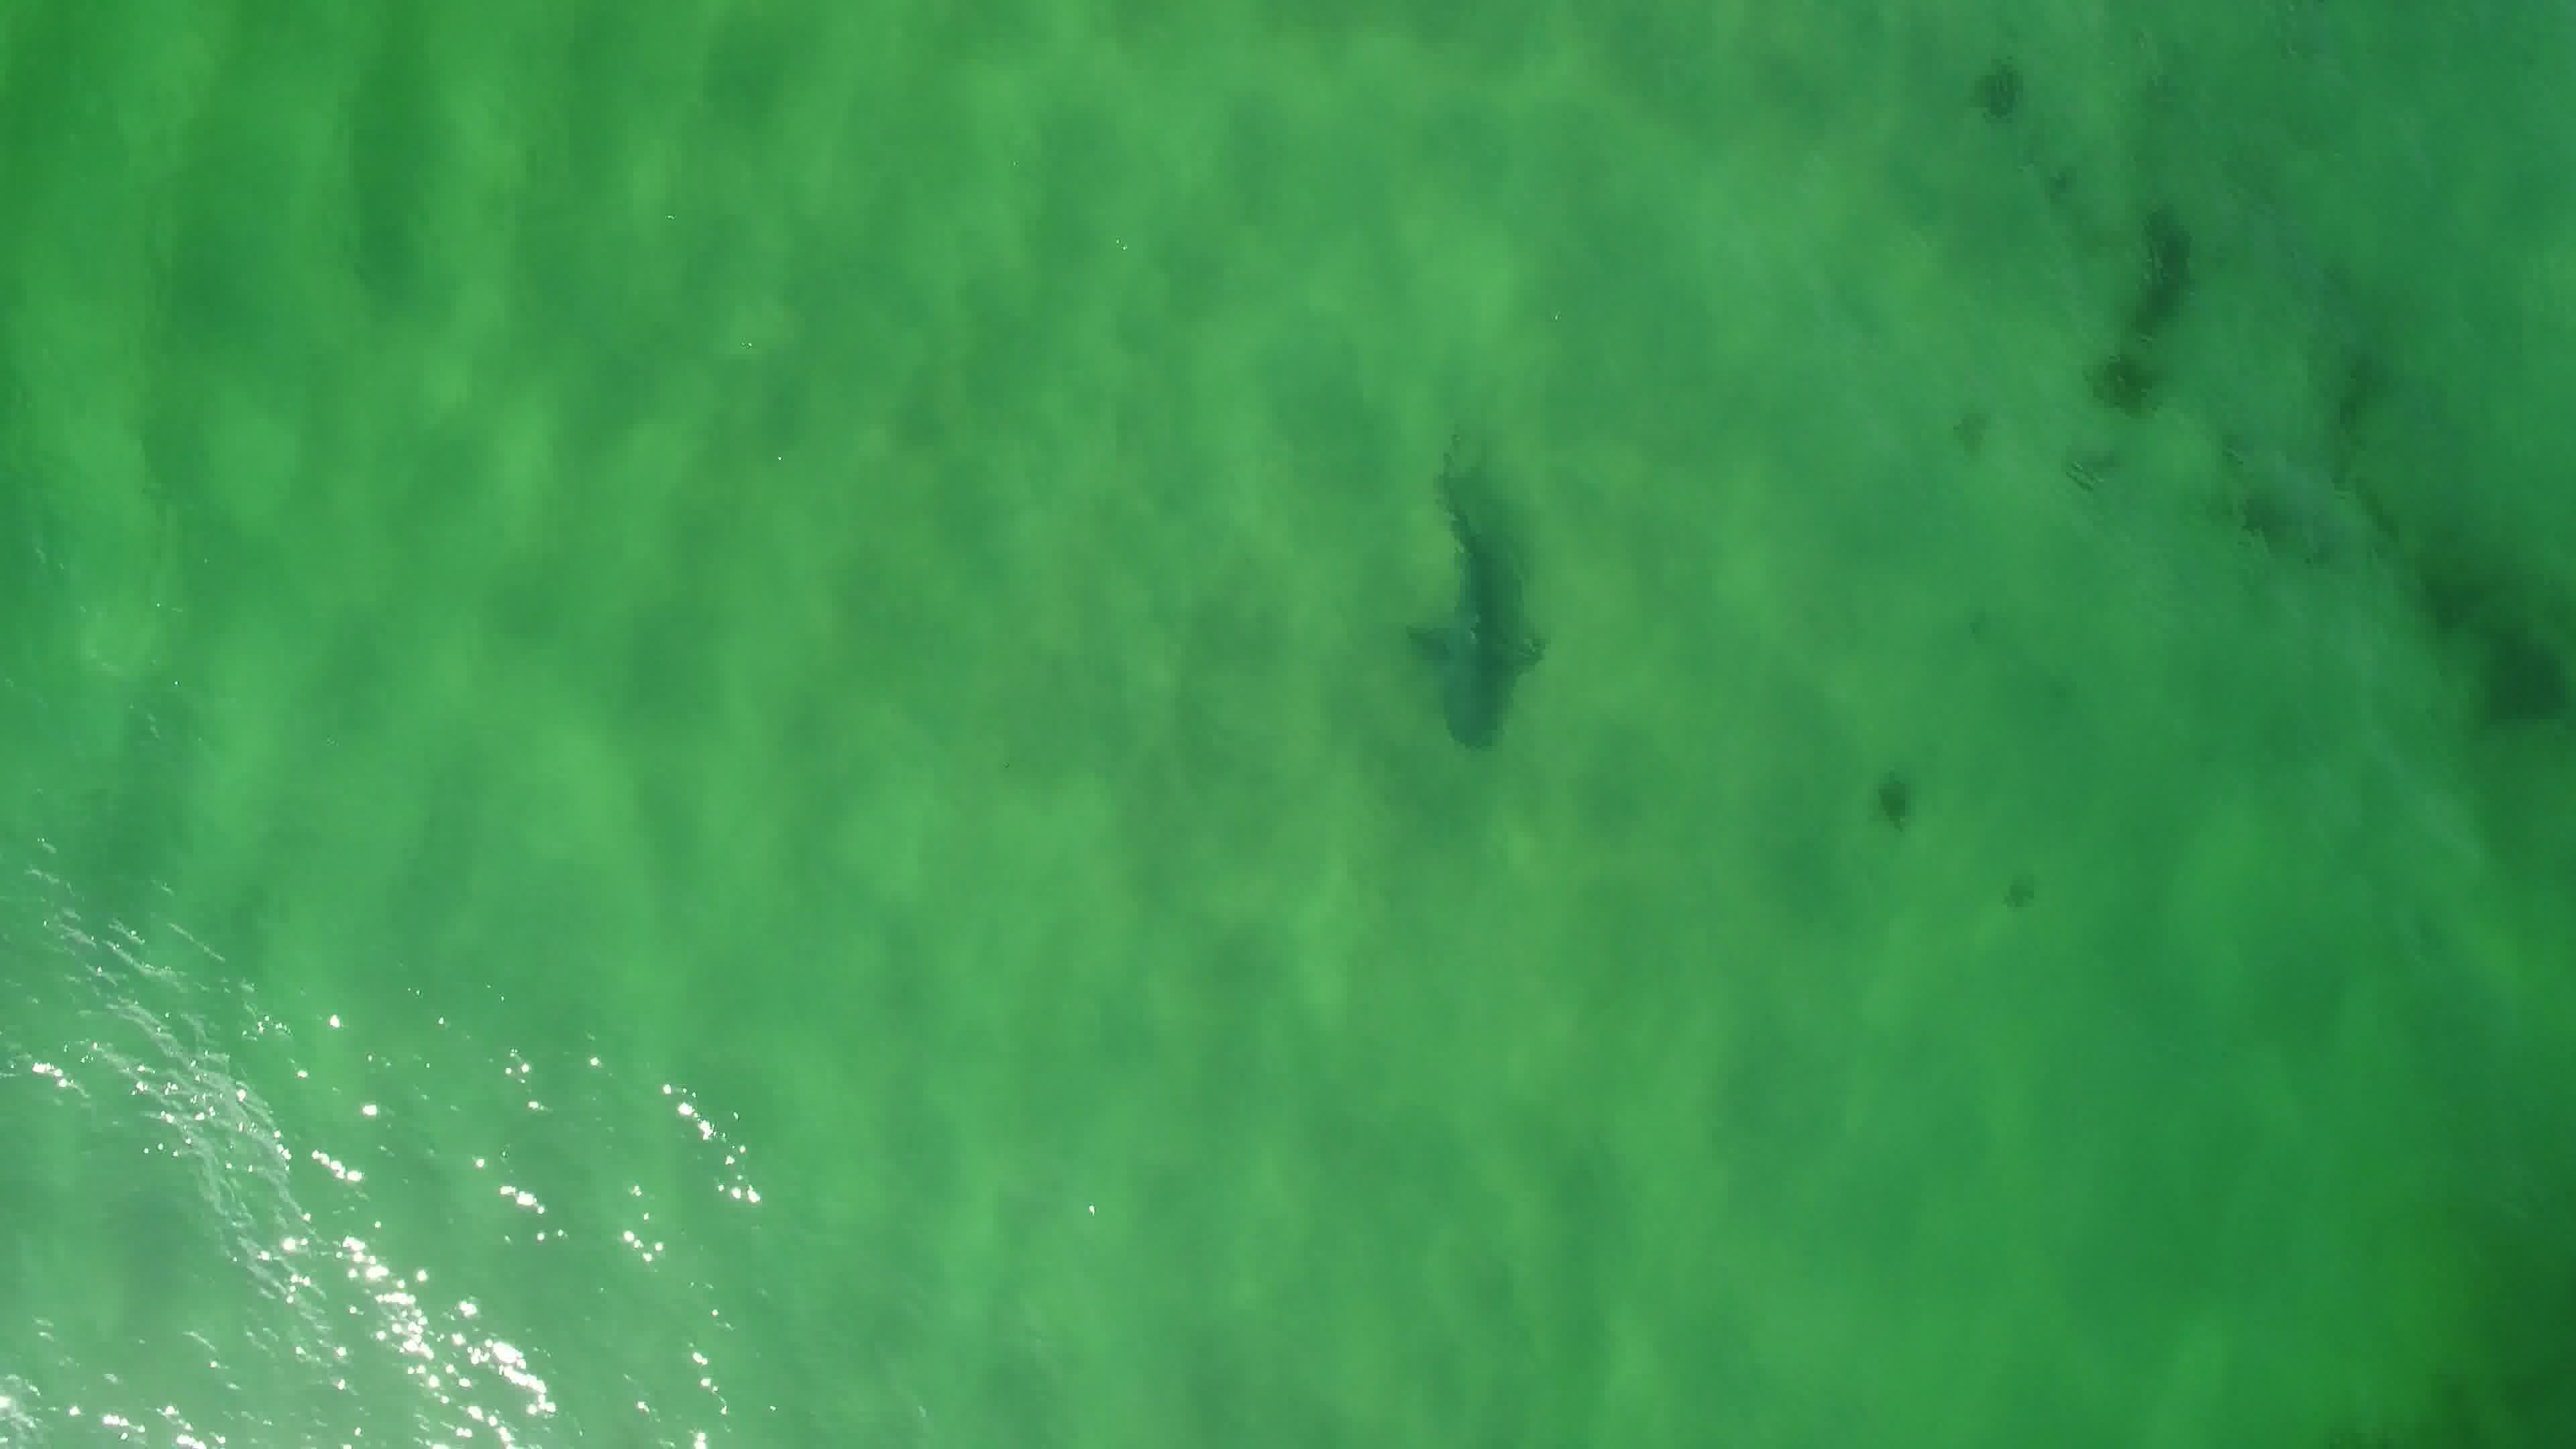shark: (1371, 426, 1552, 757)
